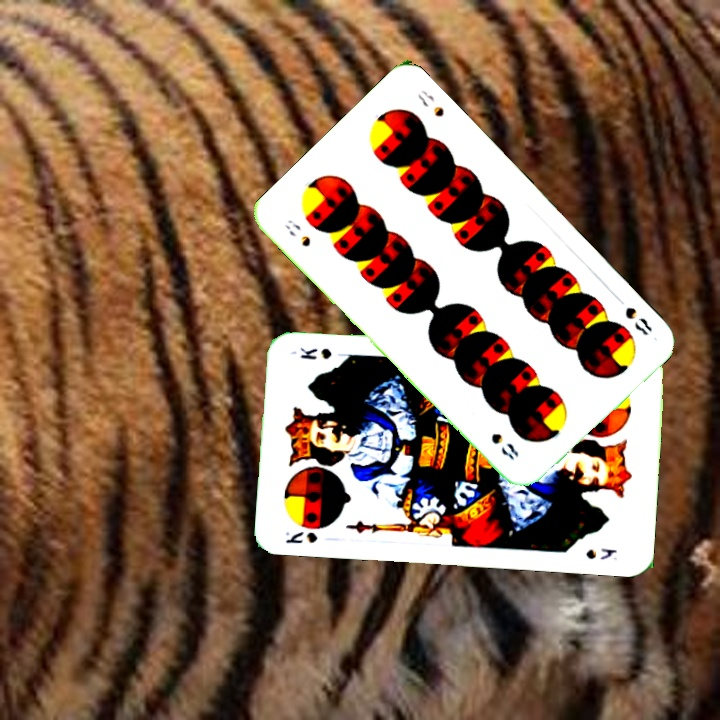S8: (621, 303, 655, 339), (282, 215, 314, 250)
SK: (281, 528, 320, 546)
